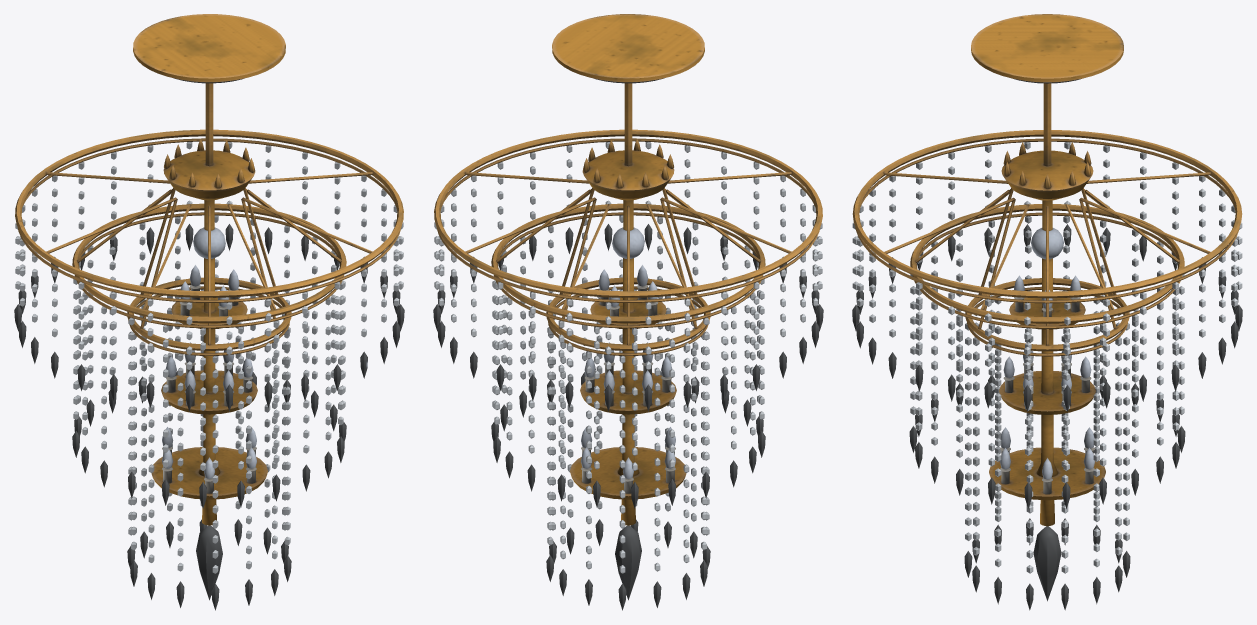
File: ChandelierCascade.fbx
3 views of the same model, side by side, from view 1: azimuth 30°, elevation 25°; view 2: azimuth 150°, elevation 25°; view 3: azimuth 270°, elevation 25° (orthographic).
Parts seen in each view (by area): view 1: ChandelierCascade_Main, ChandelierCascade_Glass, ChandelierCascade_Glow; view 2: ChandelierCascade_Main, ChandelierCascade_Glass, ChandelierCascade_Glow; view 3: ChandelierCascade_Main, ChandelierCascade_Glass, ChandelierCascade_Glow.
Boxes of the visible parts, x1,y1,x2,y2 form: ChandelierCascade_Main: [15, 14, 403, 525]; ChandelierCascade_Glass: [14, 142, 404, 610]; ChandelierCascade_Glow: [162, 227, 256, 478]; ChandelierCascade_Main: [434, 14, 822, 525]; ChandelierCascade_Glass: [433, 142, 823, 610]; ChandelierCascade_Glow: [581, 227, 675, 478]; ChandelierCascade_Main: [852, 14, 1242, 526]; ChandelierCascade_Glass: [852, 142, 1242, 610]; ChandelierCascade_Glow: [1000, 228, 1094, 479].
Size of the model in its own units: 305 by 480 by 306.
